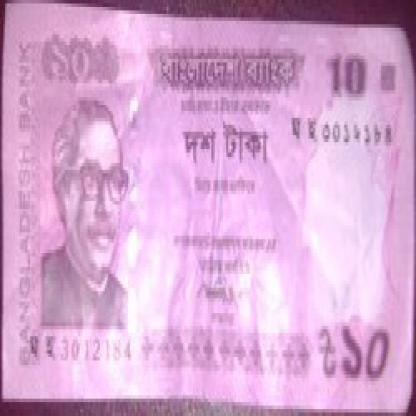Ten Taka: (340, 298, 398, 402), (47, 28, 103, 90), (321, 48, 368, 108)
